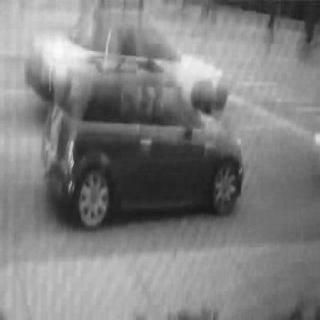other: (66, 132, 80, 196), (39, 52, 55, 98)
